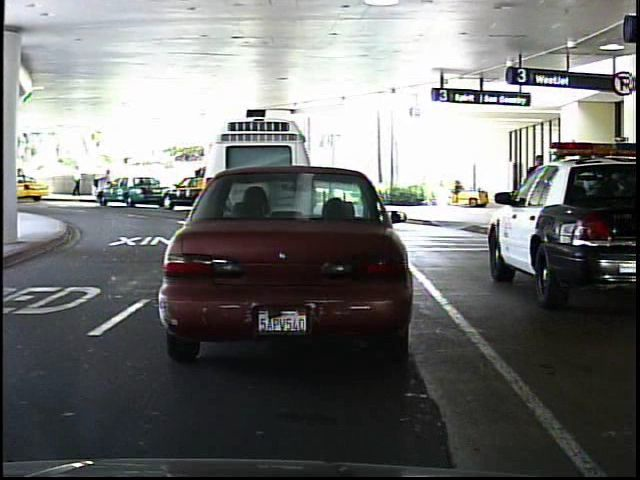person: (520, 150, 551, 229), (98, 165, 116, 201), (71, 161, 85, 200)
